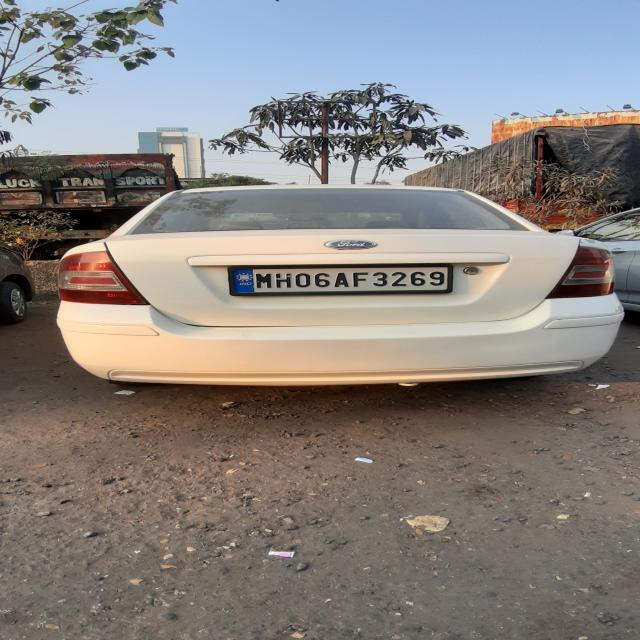Number-Plate: (232, 266, 452, 291)
